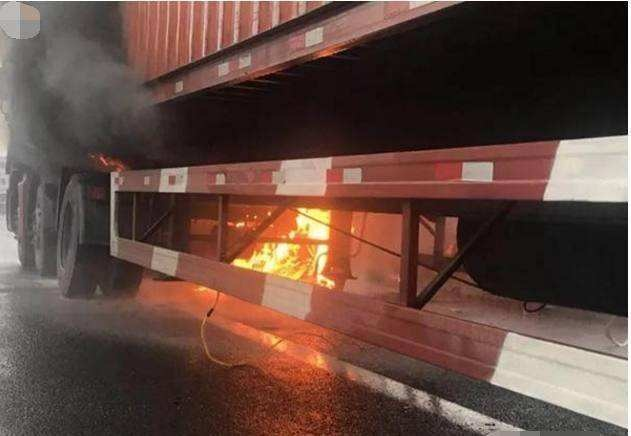fire: (223, 201, 345, 316)
